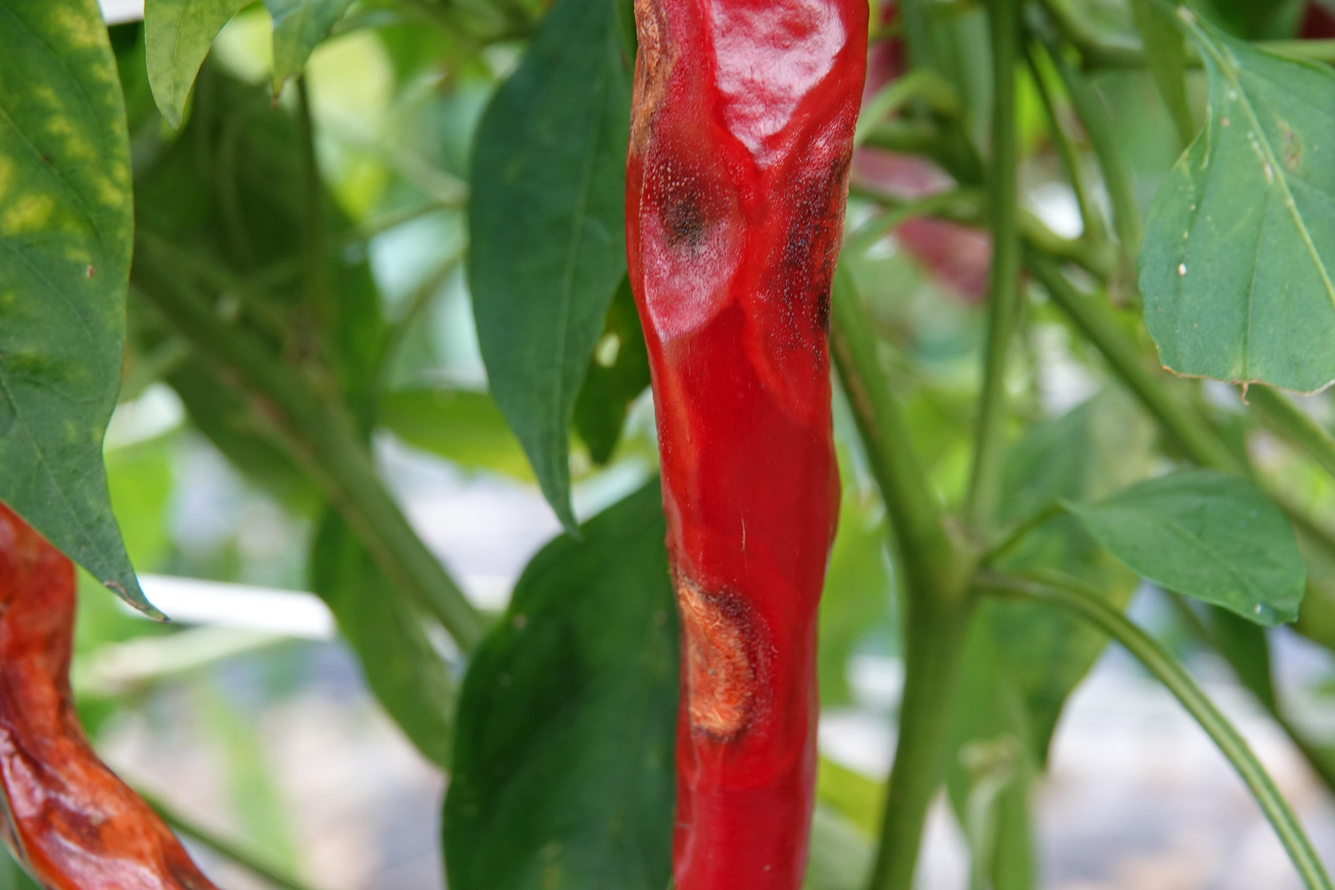Busuk Buah Antraknosa: (620, 1, 872, 886)
